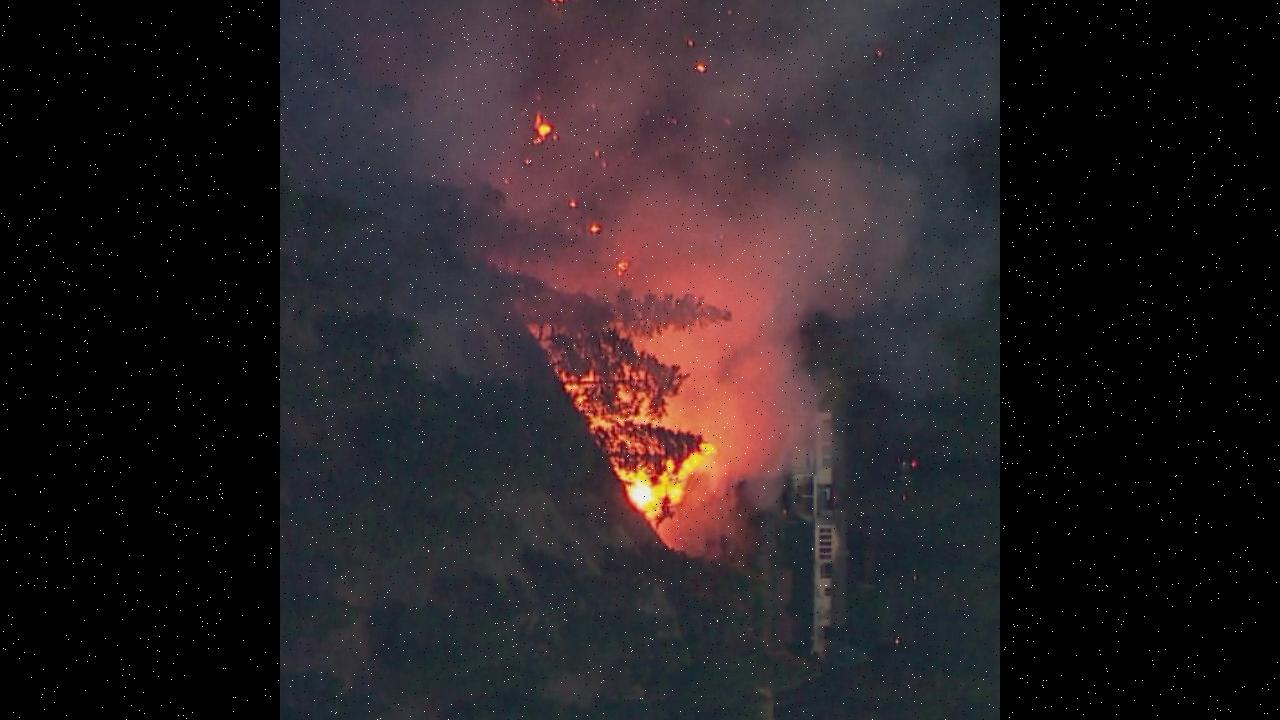fire: (508, 0, 736, 559)
